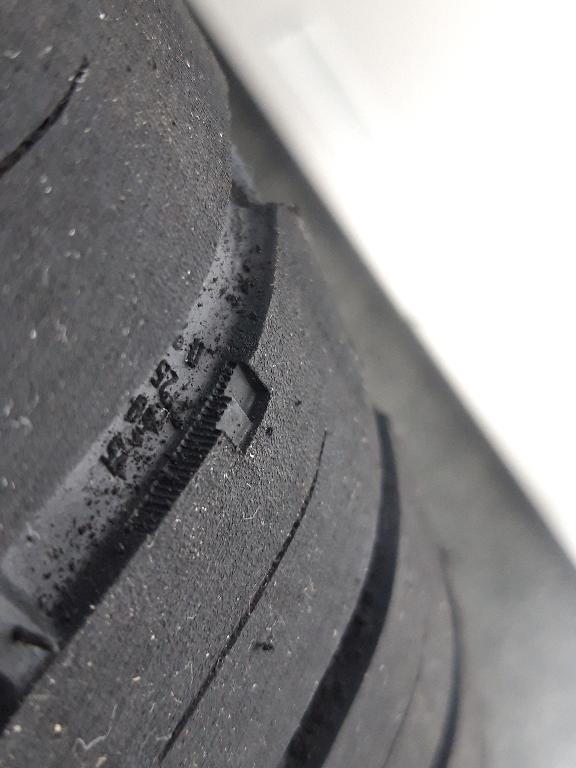temoin:25: (183, 348, 286, 472)
